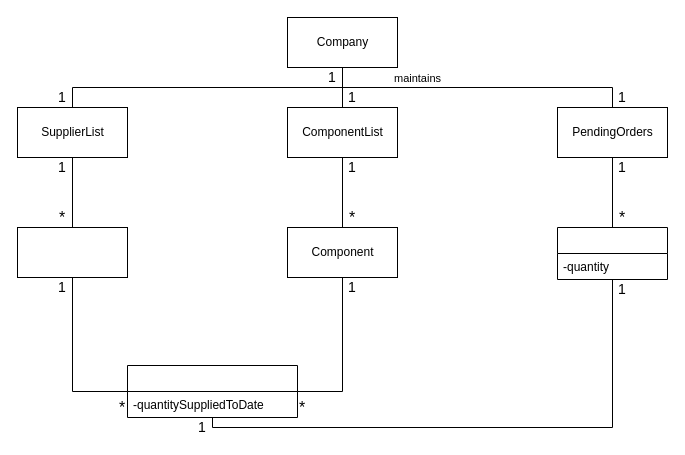
The diagram is 685 pixels wide and 455 high, and some of its shapes have lost their labels. Here are the shapes that lost their labels. From the top down, the box of each, then its label:
(16, 226, 128, 278): Supplier
(556, 226, 668, 280): Order
(126, 364, 298, 418): ComponentSupplierRelation
